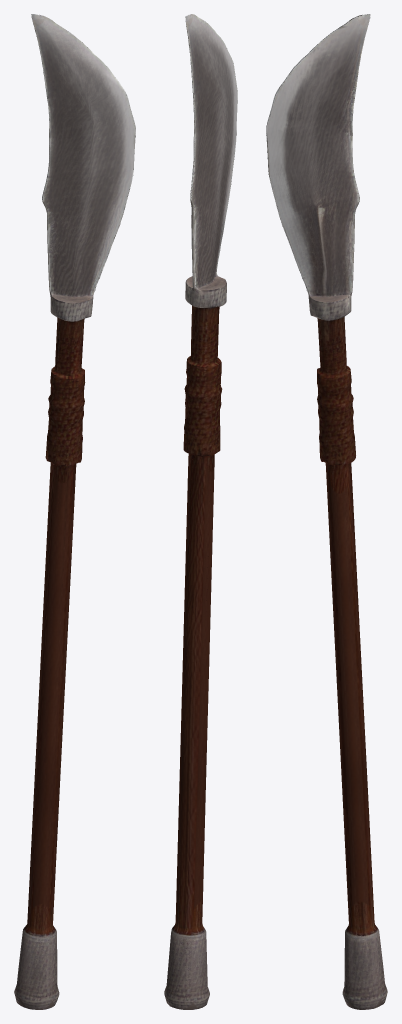
Rendered from Weapon_T0.fbx.
The picture shows the model from 3 angles, left to right: view 1: azimuth 90°, elevation 25°; view 2: azimuth 150°, elevation 25°; view 3: azimuth 270°, elevation 25°; orthographic projection.
Parts seen in each view (by area): view 1: Vanguard_Weapon; view 2: Vanguard_Weapon; view 3: Vanguard_Weapon.
Boxes of the visible parts, x1,y1,x2,y2 form: Vanguard_Weapon: [14, 14, 135, 1009]; Vanguard_Weapon: [164, 14, 237, 1009]; Vanguard_Weapon: [266, 14, 387, 1009].
Bounding box in the file's own units: 0.0802 × 1.9 × 0.2126.
Materials: 1 (1 with a texture image).
